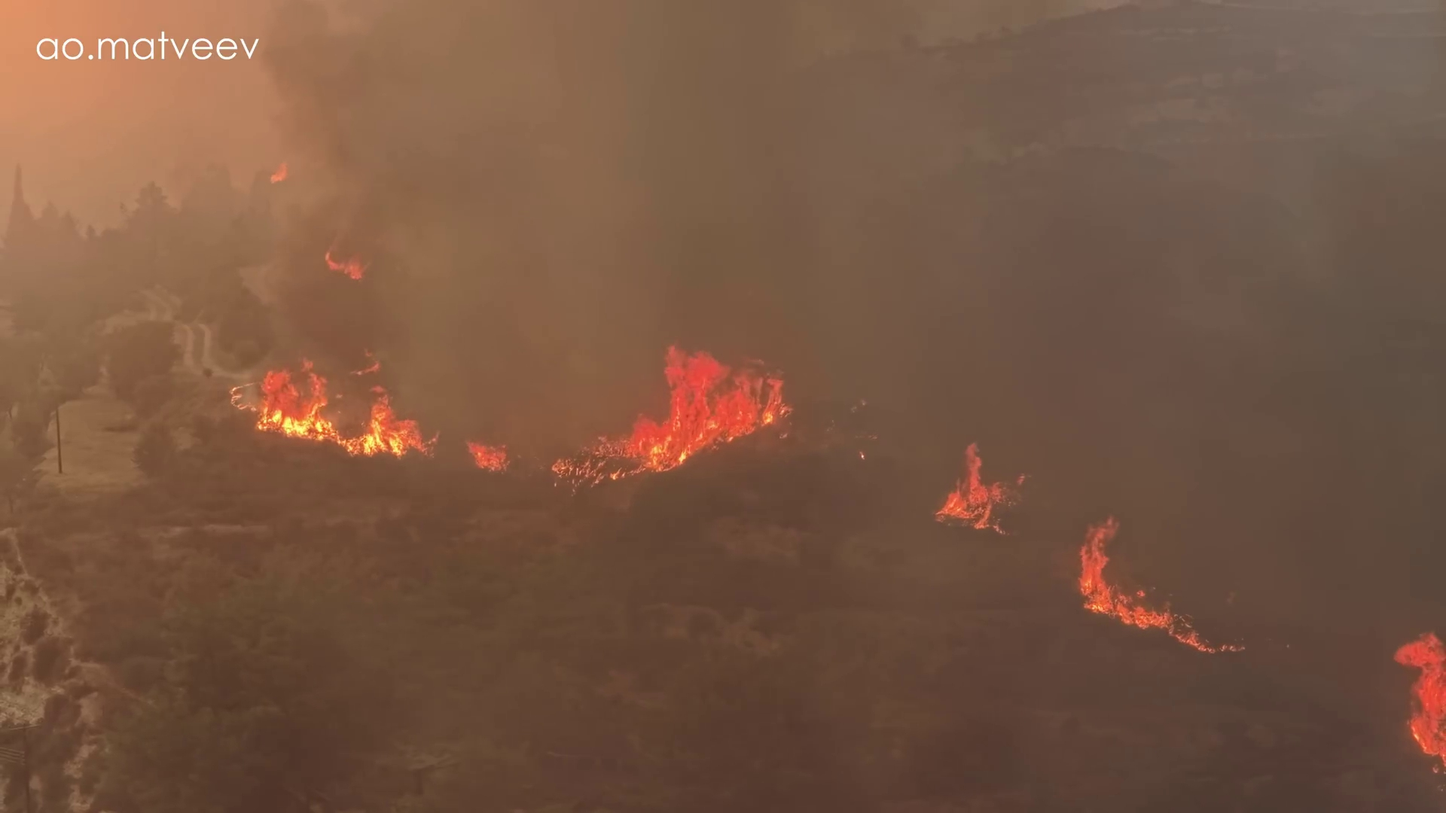forest_fire: (551, 346, 789, 483), (1078, 516, 1240, 651), (233, 361, 434, 455), (935, 443, 1024, 533), (1394, 632, 1445, 770), (467, 440, 508, 472), (325, 250, 365, 279), (270, 161, 288, 184)
